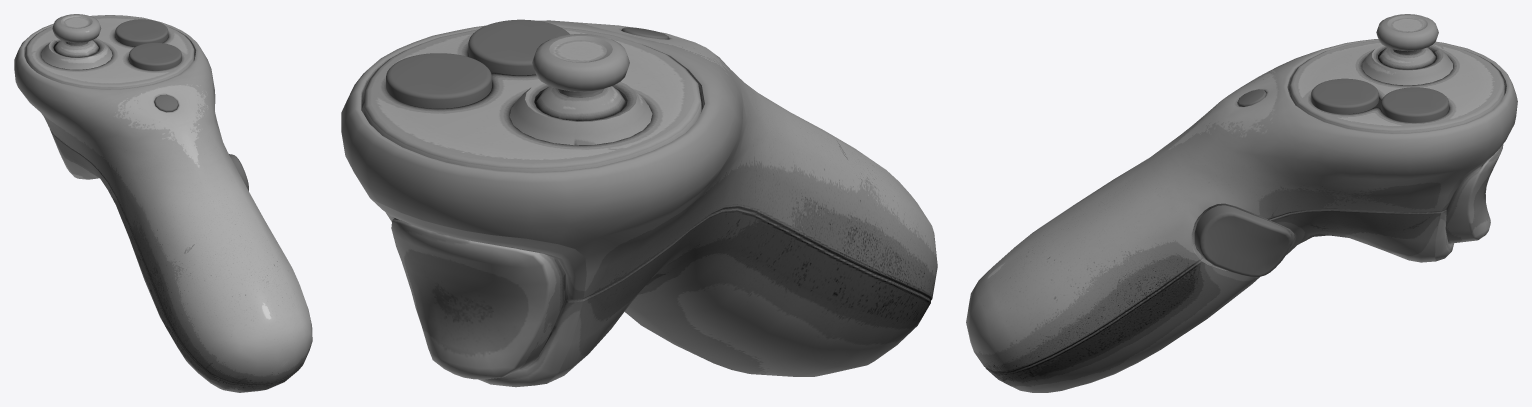
File: UniversalController.glb
The picture shows the model from 3 angles, left to right: view 1: azimuth 30°, elevation 25°; view 2: azimuth 150°, elevation 25°; view 3: azimuth 270°, elevation 25°; orthographic projection. The views are drawn at different scales.
Parts seen in each view (by area): view 1: Controller; view 2: Controller; view 3: Controller.
Part boxes in pixels (<box>): Controller: <box>14,14,312,392</box>; Controller: <box>341,19,937,387</box>; Controller: <box>966,14,1517,392</box>.
Bounding box in the file's own units: 0.5107 × 0.7778 × 1.14.
2 materials, 2 textured.
